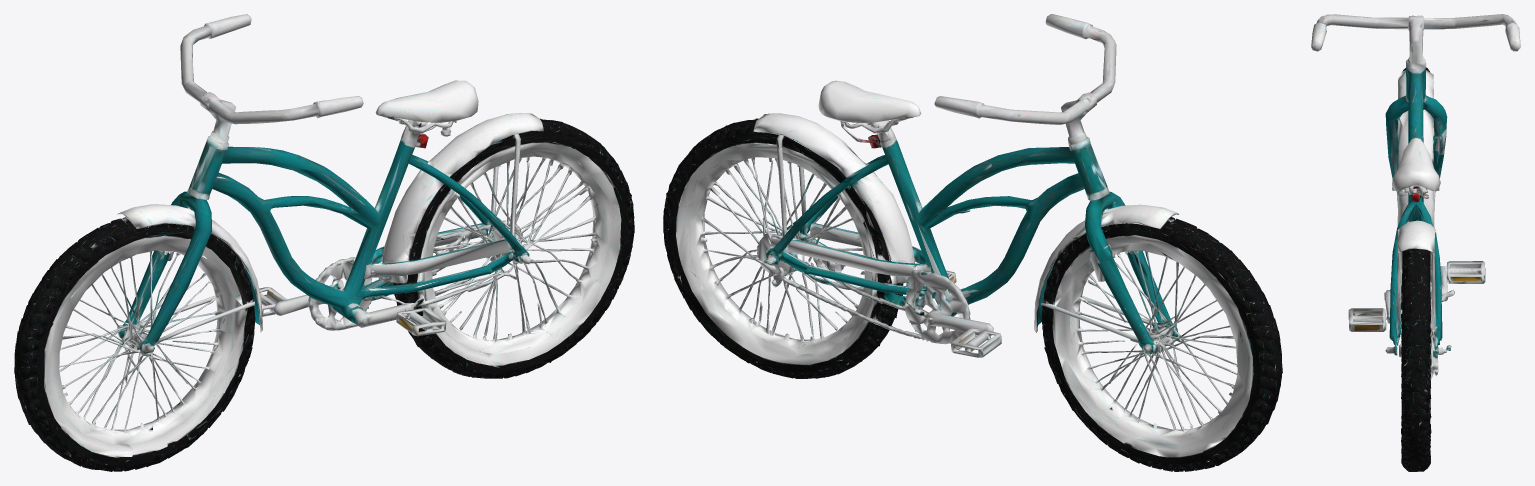
Rendered from bike2.glb.
The picture shows the model from 3 angles, left to right: view 1: azimuth 30°, elevation 25°; view 2: azimuth 150°, elevation 25°; view 3: azimuth 270°, elevation 25°; orthographic projection. The views are drawn at different scales.
Parts seen in each view (by area): view 1: LO; view 2: LO; view 3: LO.
Part boxes in pixels (x1,y1,x2,y2): LO: [14, 14, 634, 471]; LO: [663, 14, 1282, 471]; LO: [1311, 14, 1520, 471].
Bounding box in the file's own units: 1.9 × 1.11 × 0.6329.
1 material, 1 textured.
